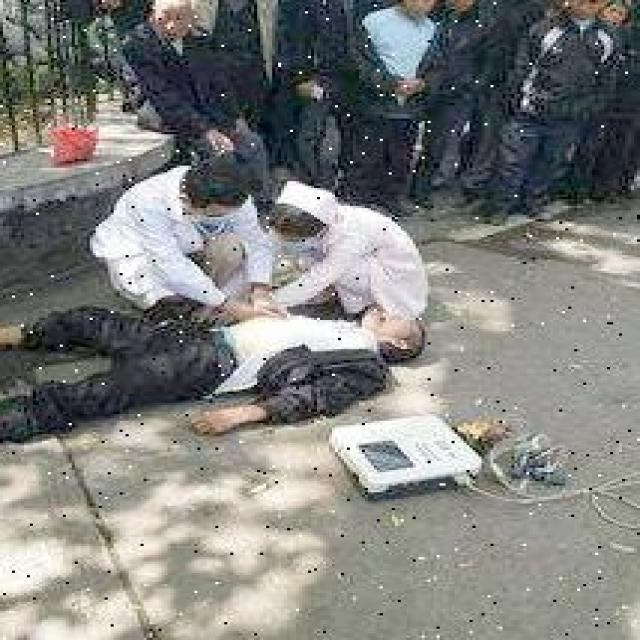fall: (4, 306, 428, 438)
